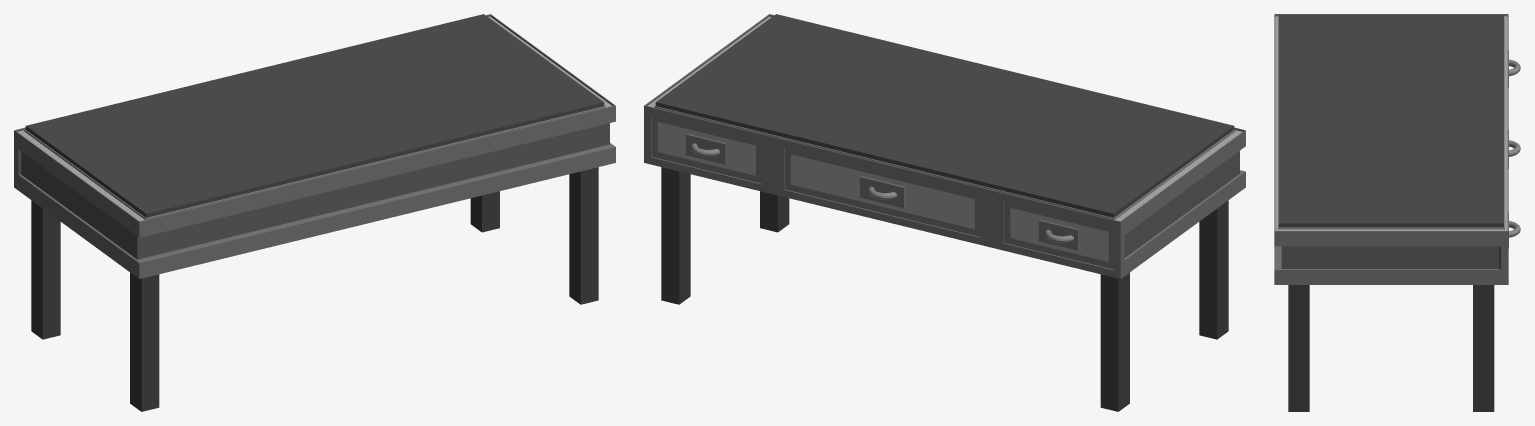
Rendered from StudyDeskModel.fbx.
The picture shows the model from 3 angles, left to right: view 1: azimuth 30°, elevation 25°; view 2: azimuth 150°, elevation 25°; view 3: azimuth 270°, elevation 25°; orthographic projection. The views are drawn at different scales.
Parts seen in each view (by area): view 1: StudyDeskModel; view 2: StudyDeskModel; view 3: StudyDeskModel.
Part boxes in pixels (x1,y1,x2,y2): StudyDeskModel: (14,14,615,411); StudyDeskModel: (644,14,1245,411); StudyDeskModel: (1274,14,1520,411).
Bounding box in the file's own units: 251 × 102 × 120.
